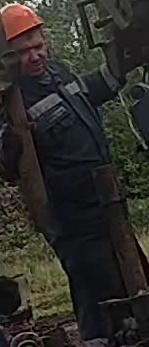helmet: (0, 3, 44, 44)
vest: (0, 66, 115, 223)
